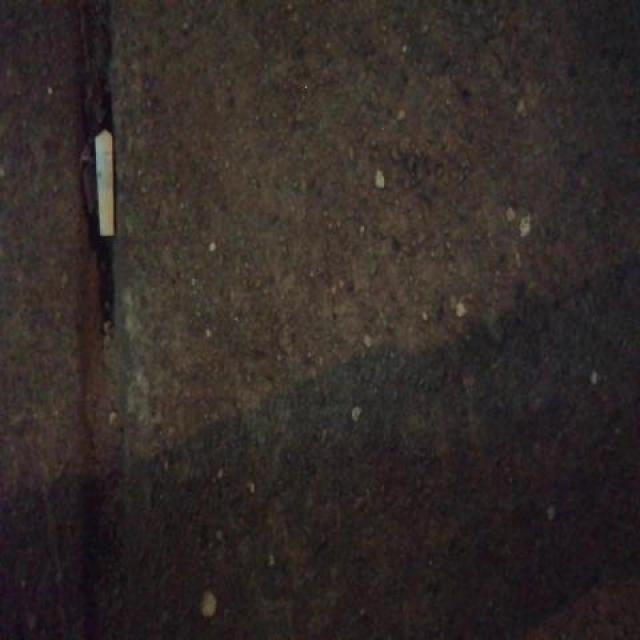non-organic waste: (90, 124, 118, 240)
